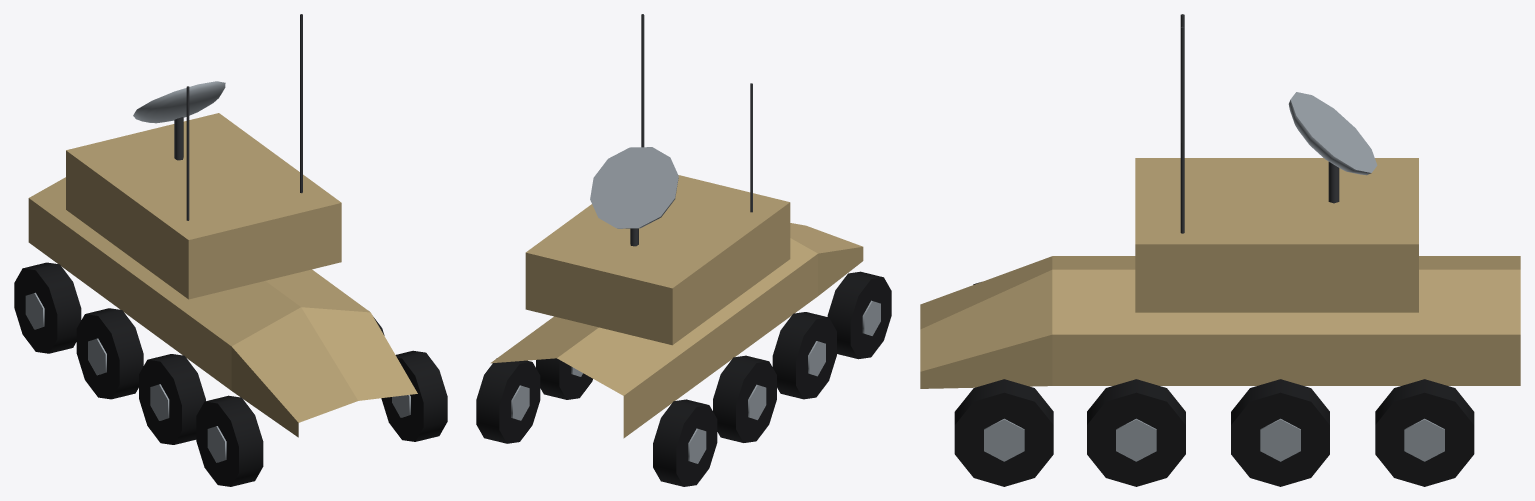
The model's file is veh_ground_command_vehicle_a07.glb.
3 views of the same model, side by side, from view 1: azimuth 30°, elevation 25°; view 2: azimuth 150°, elevation 25°; view 3: azimuth 270°, elevation 25° (orthographic). The views are drawn at different scales.
Parts seen in each view (by area): view 1: body, wheel_6, wheel_2, wheel_0, wheel_4, wheel_7, radar; view 2: body, radar, wheel_0, wheel_4, wheel_2, wheel_1, wheel_6, wheel_3; view 3: body, wheel_1, wheel_7, wheel_5, wheel_3, radar.
Boxes of the visible parts, x1,y1,x2,y2 form: body: (28,14,417,437); wheel_6: (196,395,263,486); wheel_2: (76,308,143,399); wheel_0: (14,262,81,353); wheel_4: (139,354,205,444); wheel_7: (381,350,447,441); radar: (133,81,225,160); body: (490,14,863,438); radar: (590,147,678,246); wheel_0: (653,399,717,486); wheel_4: (772,312,836,399); wheel_2: (713,355,776,442); wheel_1: (476,358,540,443); wheel_6: (827,271,891,359); wheel_3: (536,358,592,399); body: (920,14,1520,388); wheel_1: (1375,379,1474,486); wheel_7: (954,379,1053,486); wheel_5: (1087,379,1185,486); wheel_3: (1231,379,1329,486); radar: (1288,92,1377,203).
Size of what is drawn, in the model's own units: 2.98 by 5.05 by 6.35.
